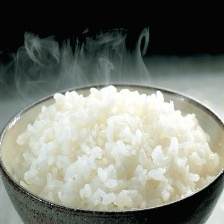rice: (13, 83, 224, 211)
